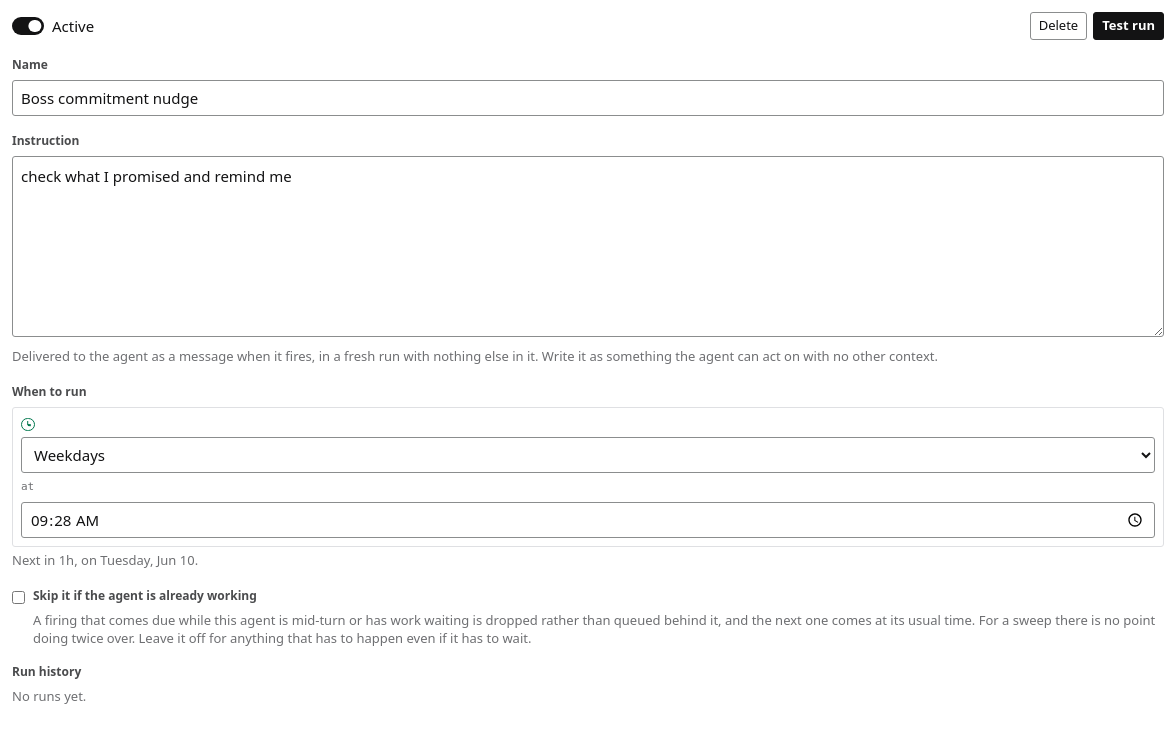
Scenario: RoutineDetail › refuses a test run of something other than what is on screen
Replace the text in the text box labelled "Instruction" with "something else" at (588, 246), box [12,156,1164,337]
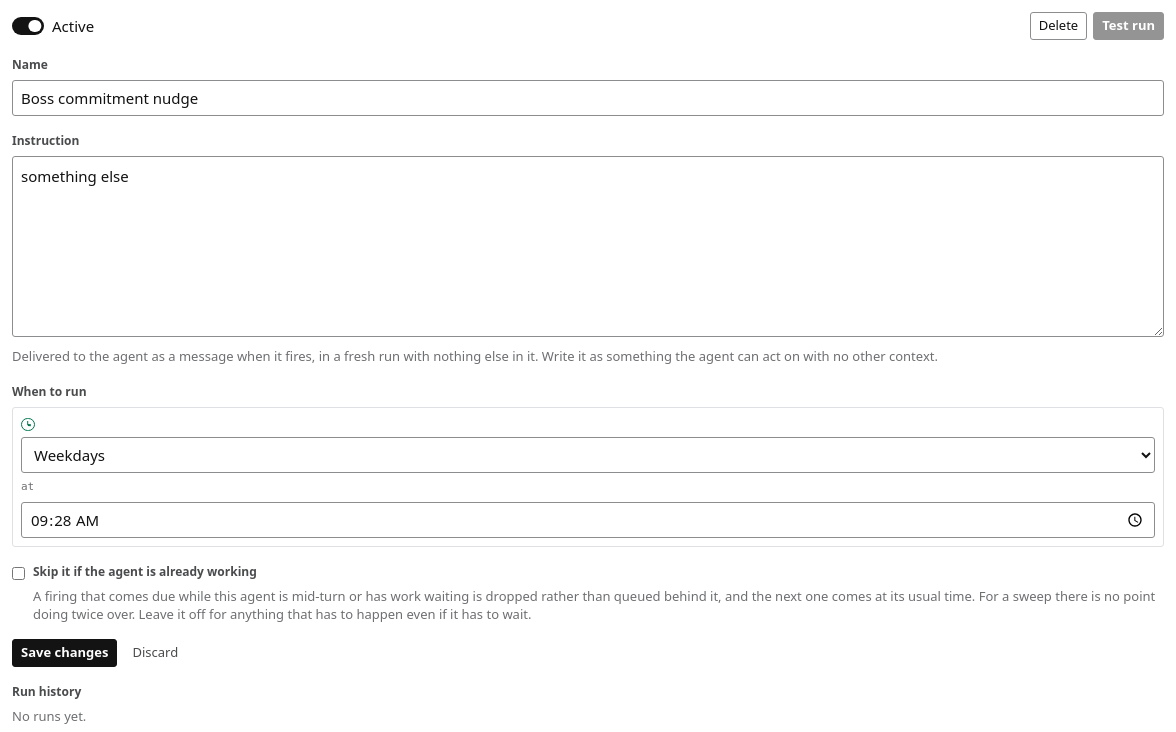
Check: the button "Test run" is disabled, box [1093,12,1164,40]
